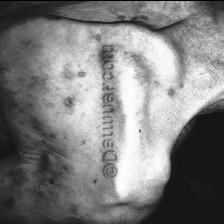Potentially Malignant Skin Tumors: (158, 82, 181, 98), (63, 64, 87, 76), (60, 93, 80, 107), (91, 31, 106, 39)
